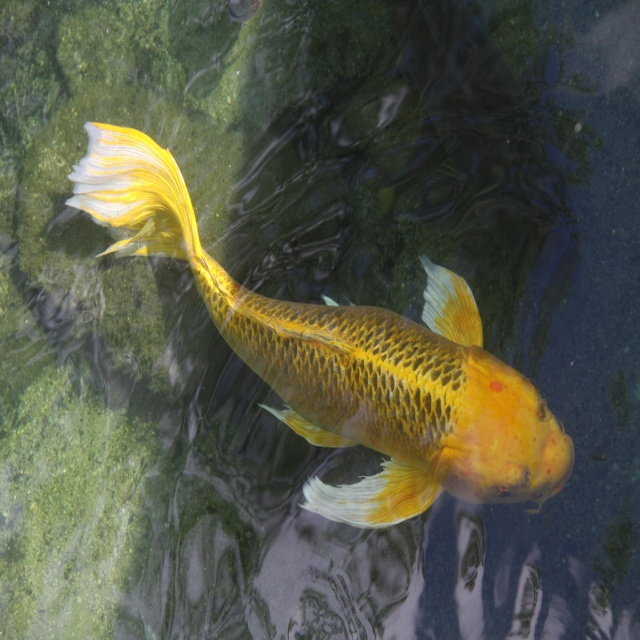Fish: (64, 123, 575, 530)
